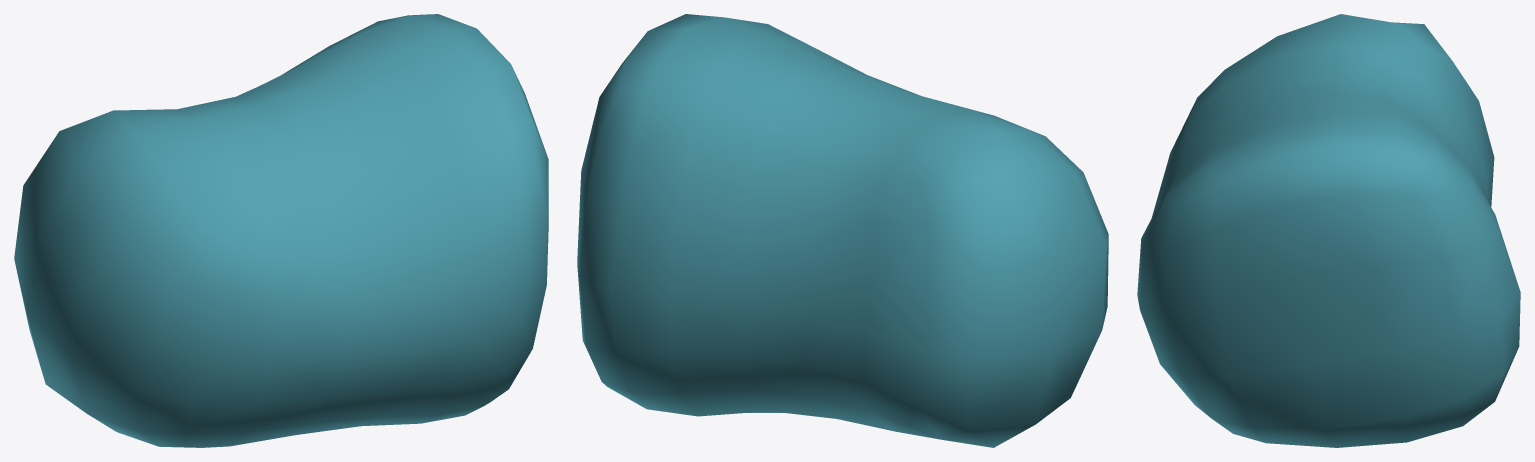
Rendered from VIS_Alpha_Surface_037.dae.
3 views of the same model, side by side, from view 1: azimuth 30°, elevation 25°; view 2: azimuth 150°, elevation 25°; view 3: azimuth 270°, elevation 25° (orthographic). The views are drawn at different scales.
Visible parts, largest first — view 1: VIS_Alpha_Surface_037; view 2: VIS_Alpha_Surface_037; view 3: VIS_Alpha_Surface_037.
Boxes of the visible parts, left/top/right/bottom form: VIS_Alpha_Surface_037: left=14, top=14, right=548, bottom=447; VIS_Alpha_Surface_037: left=577, top=14, right=1108, bottom=447; VIS_Alpha_Surface_037: left=1137, top=14, right=1520, bottom=447.
Size of the model in its own units: 3.81 by 3 by 2.77.
